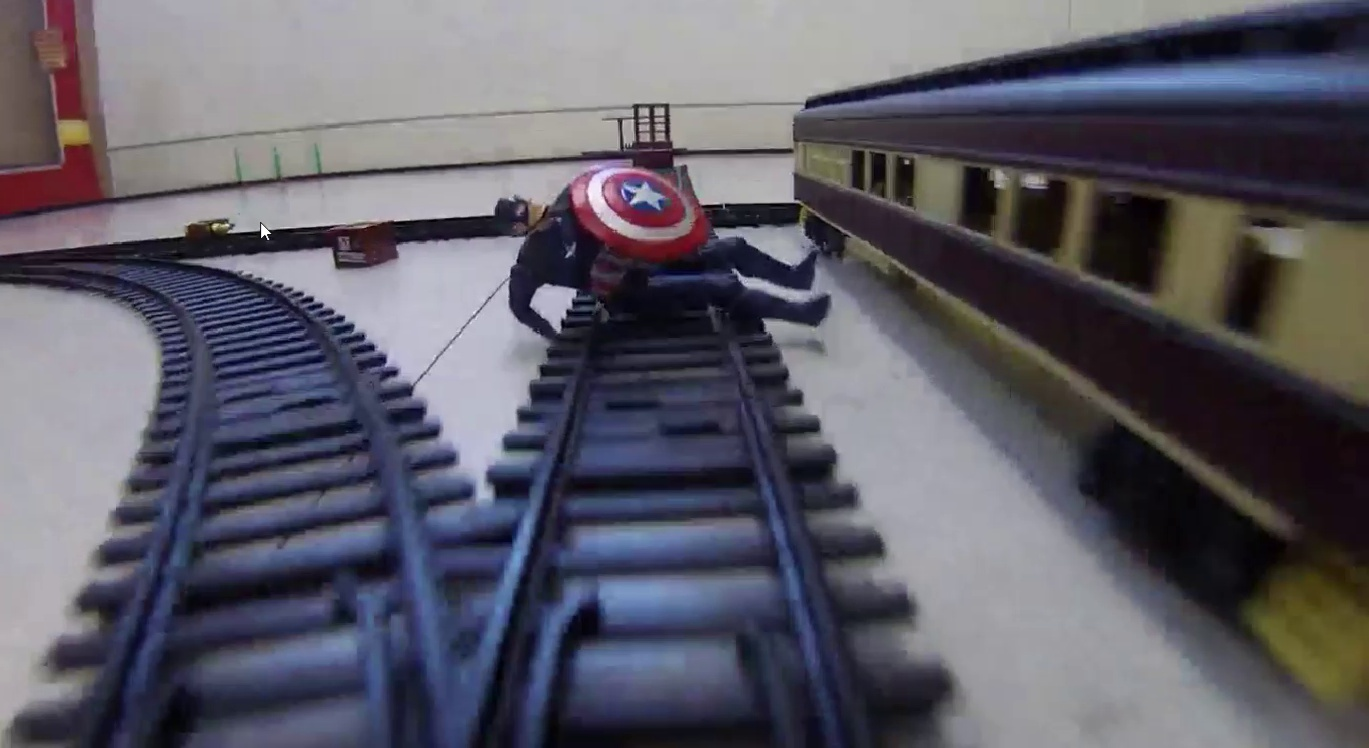box: (330, 218, 399, 270)
people: (493, 175, 813, 326)
